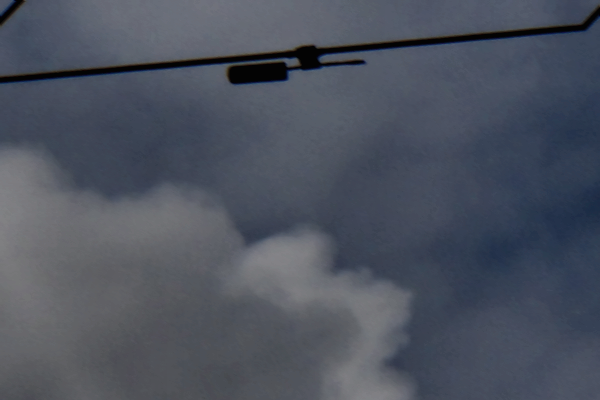damper_defect: (223, 42, 369, 88)
